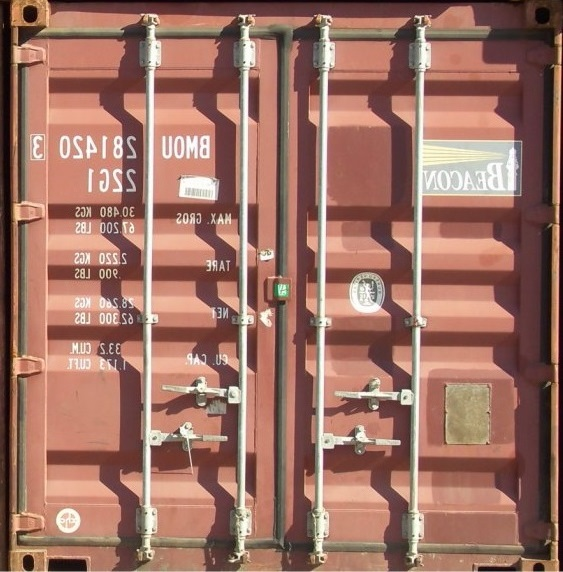container_door: (8, 1, 552, 566)
